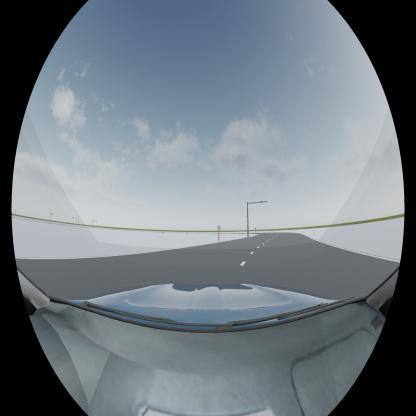Red Light: (260, 201, 264, 203)
